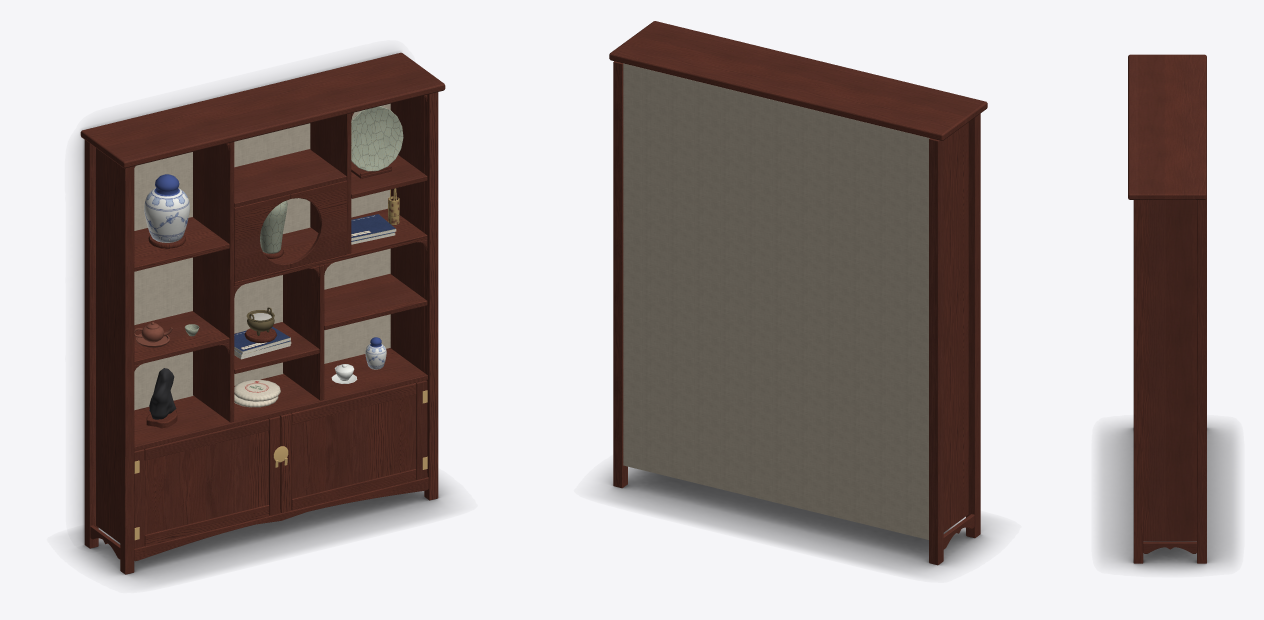
File: curio_shelf.glb
The picture shows the model from 3 angles, left to right: view 1: azimuth 30°, elevation 25°; view 2: azimuth 150°, elevation 25°; view 3: azimuth 270°, elevation 25°; orthographic projection. The views are drawn at different scales.
Parts seen in each view (by area): view 1: curio_shelf_LOD0, curio_shelf_Shadow; view 2: curio_shelf_LOD0, curio_shelf_Shadow; view 3: curio_shelf_LOD0, curio_shelf_Shadow.
Part boxes in pixels (x1,y1,x2,y2): curio_shelf_LOD0: (80, 52, 445, 574); curio_shelf_Shadow: (69, 51, 449, 583); curio_shelf_LOD0: (609, 21, 987, 565); curio_shelf_Shadow: (601, 467, 992, 574); curio_shelf_LOD0: (1128, 54, 1206, 563); curio_shelf_Shadow: (1100, 423, 1236, 571).
Size of what is drawn, in the model's own units: 1.94 by 2.18 by 0.765.
6 materials, 5 textured.
